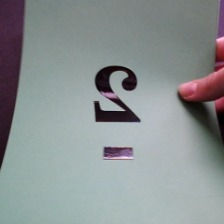green2: (91, 60, 146, 163)
